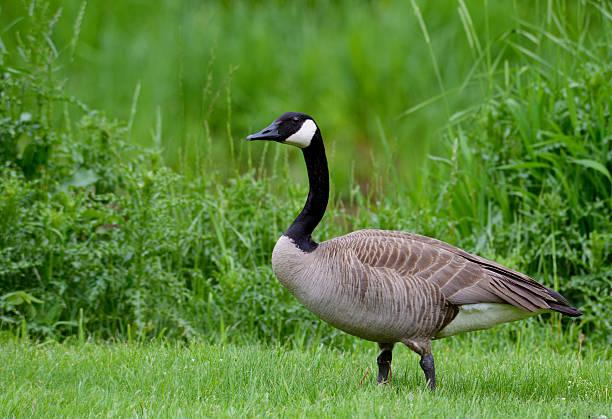Canadian-Goose: (245, 111, 580, 388)
